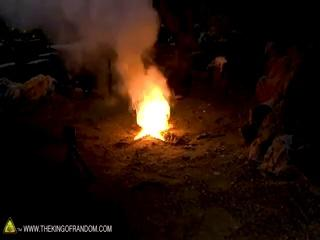Fire: (128, 80, 174, 136)
